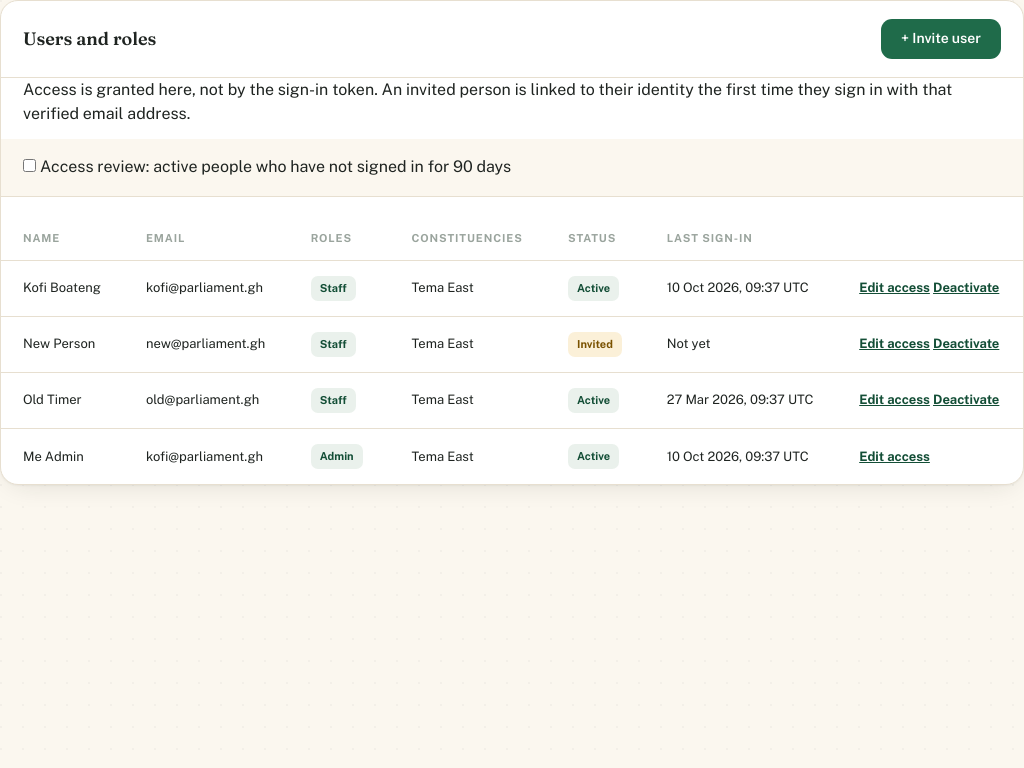
Test case: Users and roles (T-066) › invites a user with roles and constituencies
This screenshot has width=1024, height=768.
Click the button "+ Invite user" at (941, 39), box [881,19,1001,58]
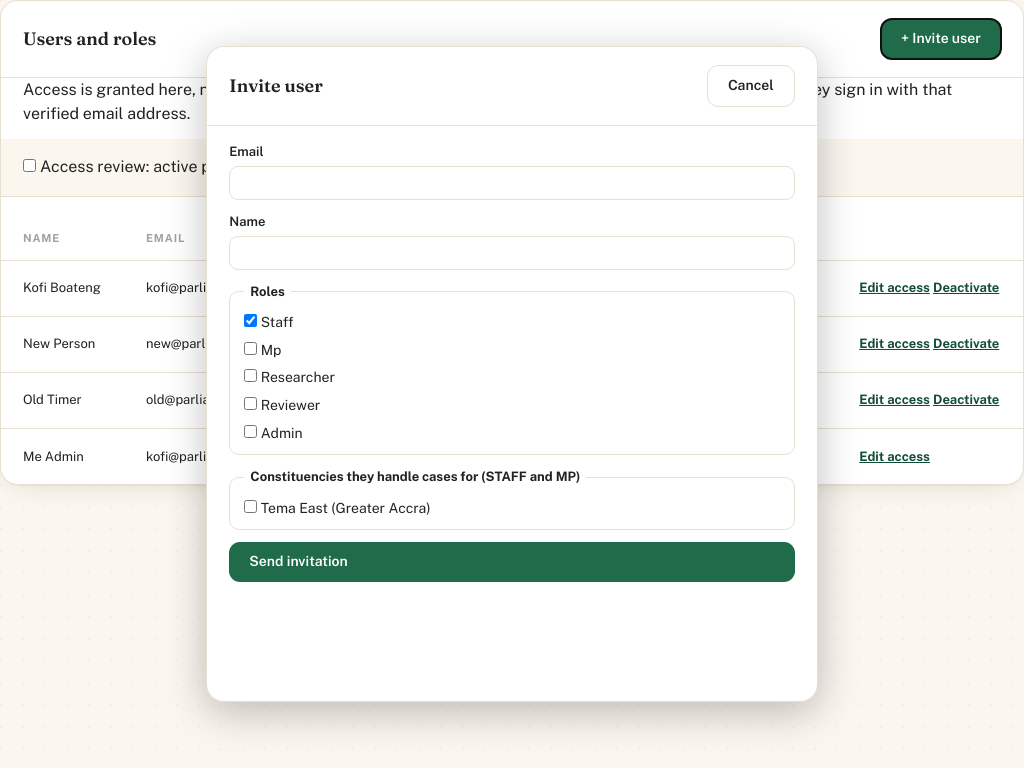
Type "amina@parliament.gh" into the field labelled "Email" at (512, 183), box [229,166,795,200]
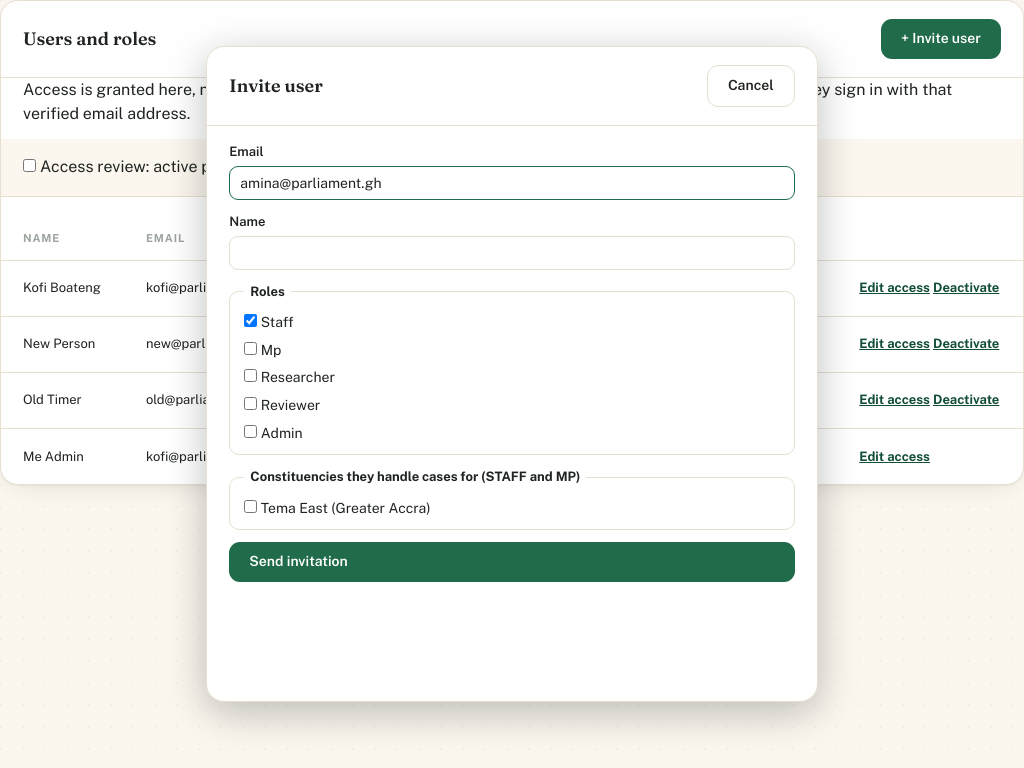
Type "Amina Yusuf" into the field labelled "Name" at (512, 253), box [229,236,795,270]
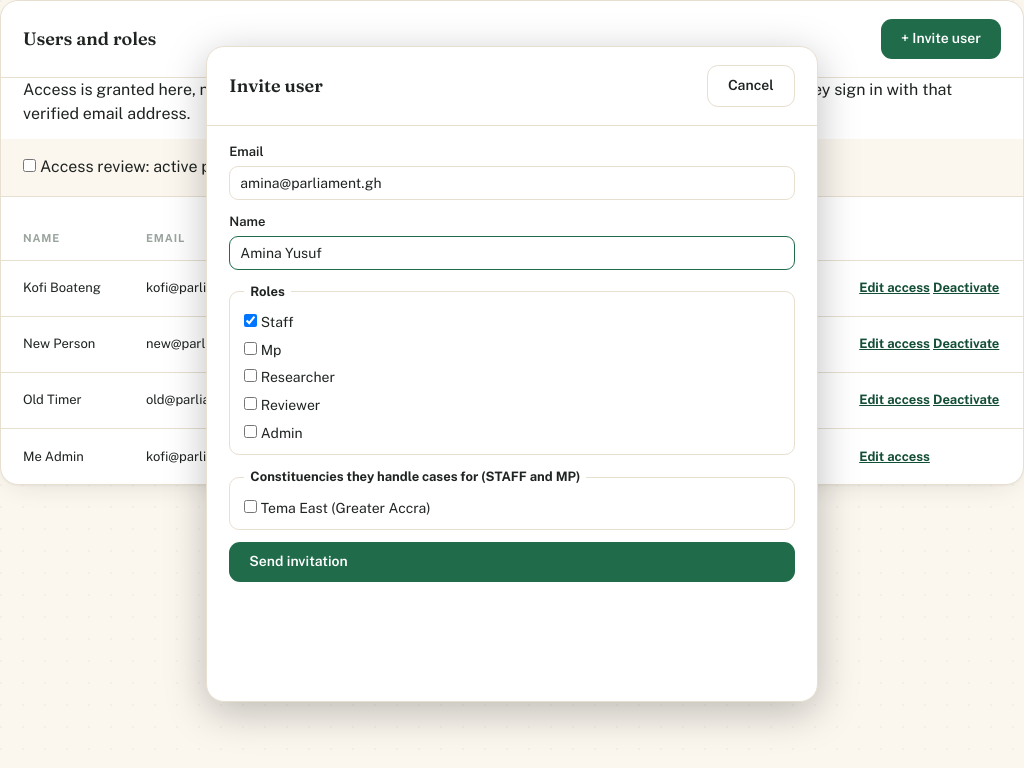
Click the checkbox labelled "Reviewer" at (251, 404), box [244,397,257,410]
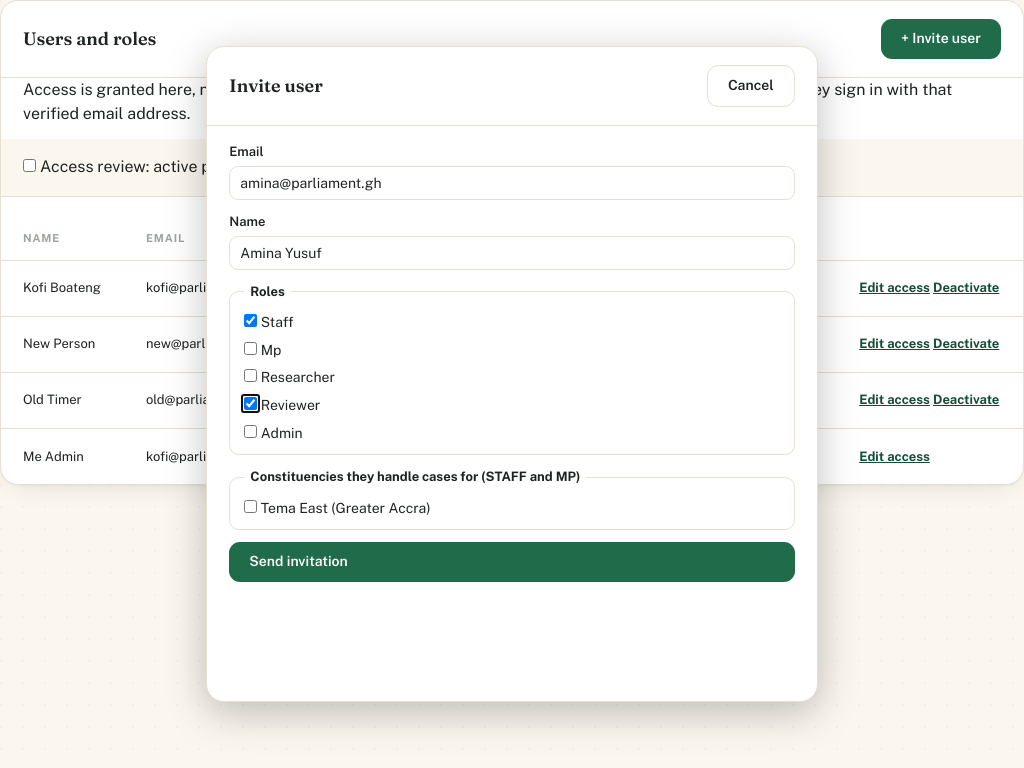
Click the checkbox labelled "Tema East (Greater Accra)" at (251, 506), box [244,500,257,513]
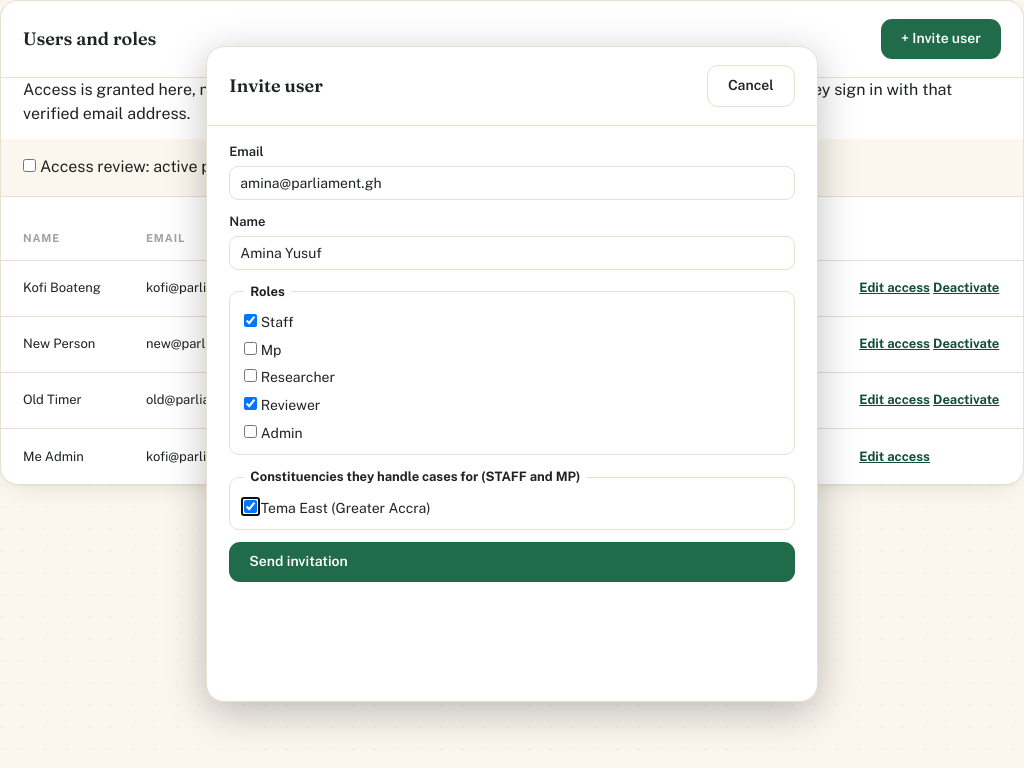
Click the button "Send invitation" at (299, 561), box [229,542,795,582]
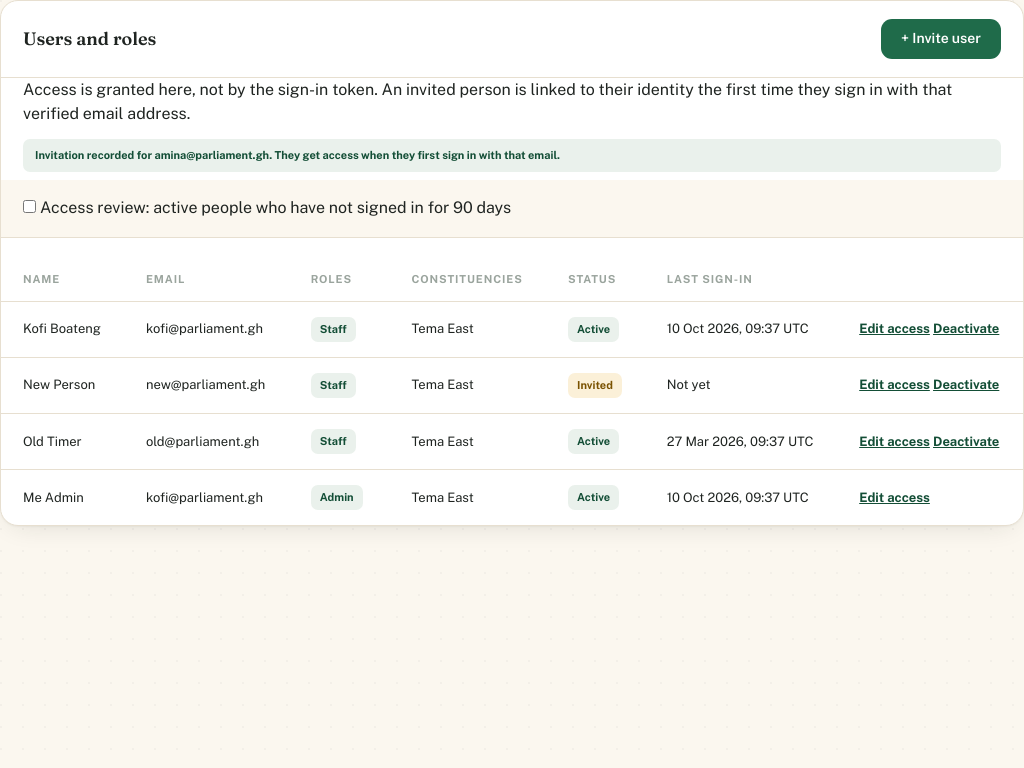
Result: the text "get access when they first sign in with that email" is shown at [35,149,560,161]
